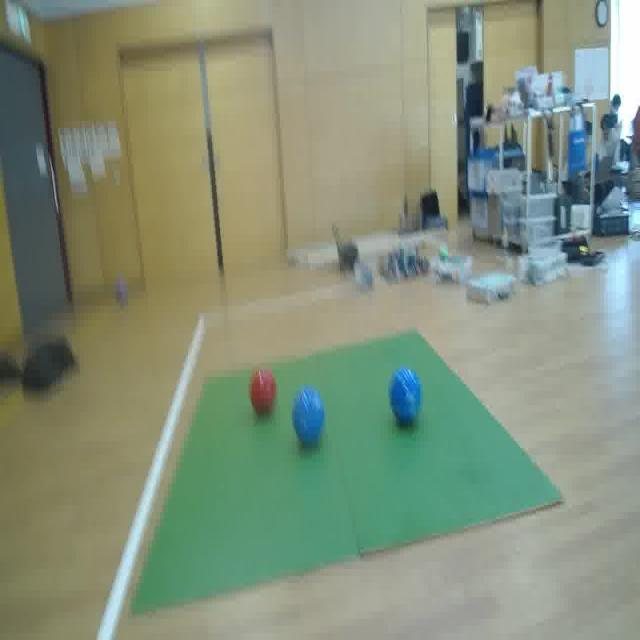blue_ball: (387, 362, 423, 428), (290, 387, 326, 447)
purple_ball: (115, 280, 129, 306)
red_ball: (249, 365, 277, 417)
